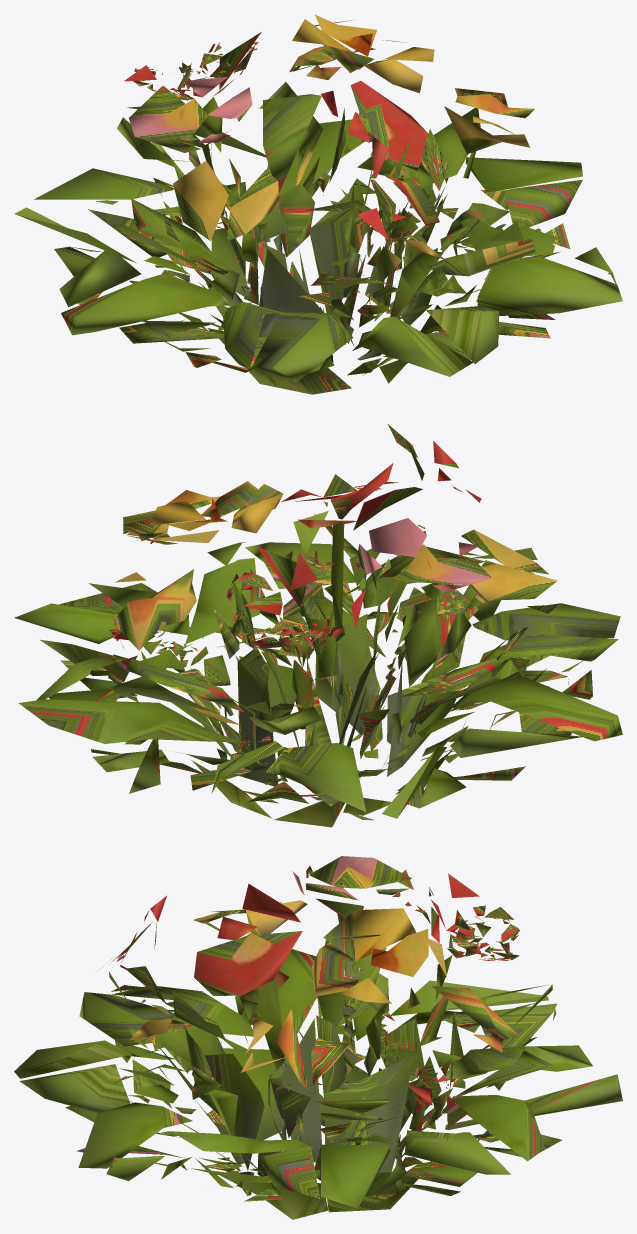
Rendered from flowers.glb.
3 renders of one model, top to bottom at view 1: azimuth 30°, elevation 25°; view 2: azimuth 150°, elevation 25°; view 3: azimuth 270°, elevation 25°, orthographic. The views are drawn at different scales.
Size of the model in its own units: 1 by 0.5306 by 0.9983.
1 material, 1 textured.
